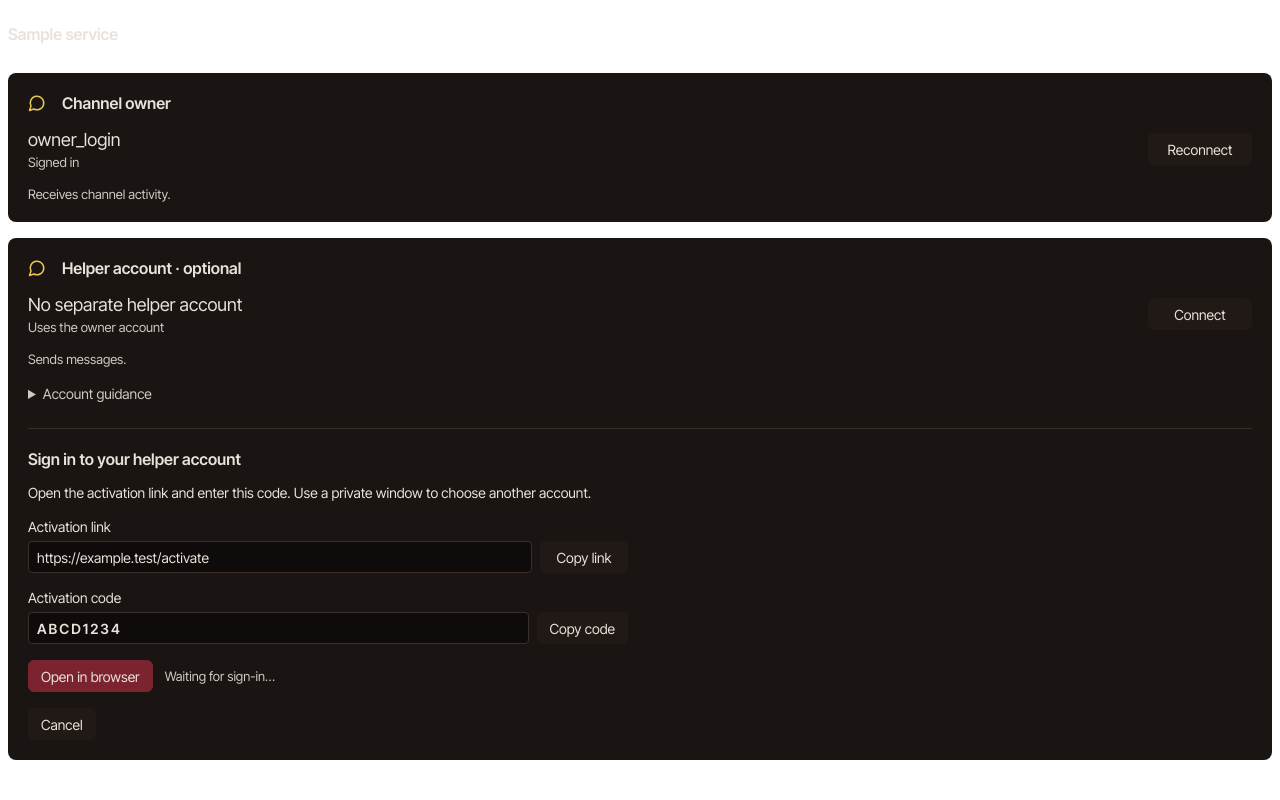
Test: AccountConnectionsView › keeps cancellation under backend control and hides internal errors
This screenshot has width=1280, height=800.
Step 1. Click the button "Open in browser" → point(90, 676), box 28,660 -> 153,692
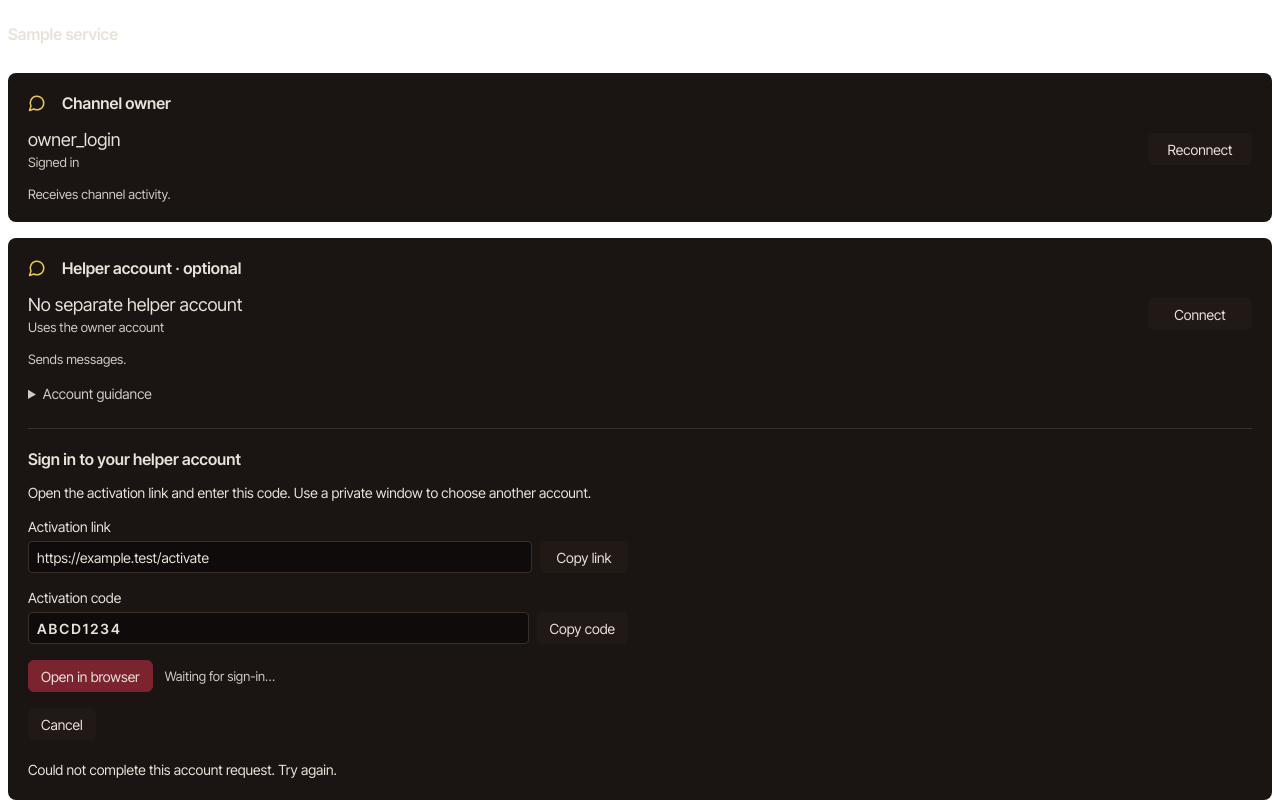
Expected: the message "Could not complete this account request. Try again." is shown, 28,761 -> 337,778
Step 2. Click the button "Cancel" → point(62, 724), box 28,708 -> 96,740
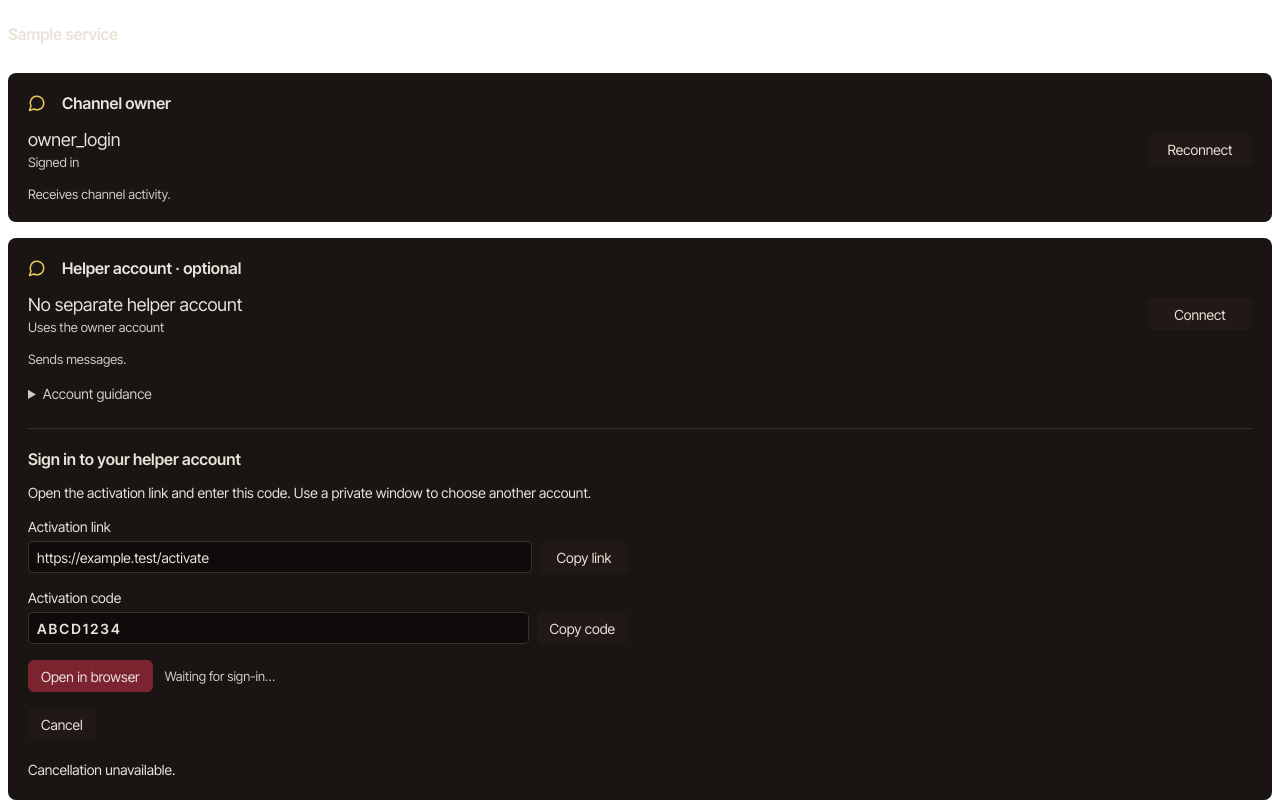
Expected: the message "Cancellation unavailable." is shown, 28,761 -> 175,778
Step 3. Click the button "Cancel" → point(62, 724), box 28,708 -> 96,740
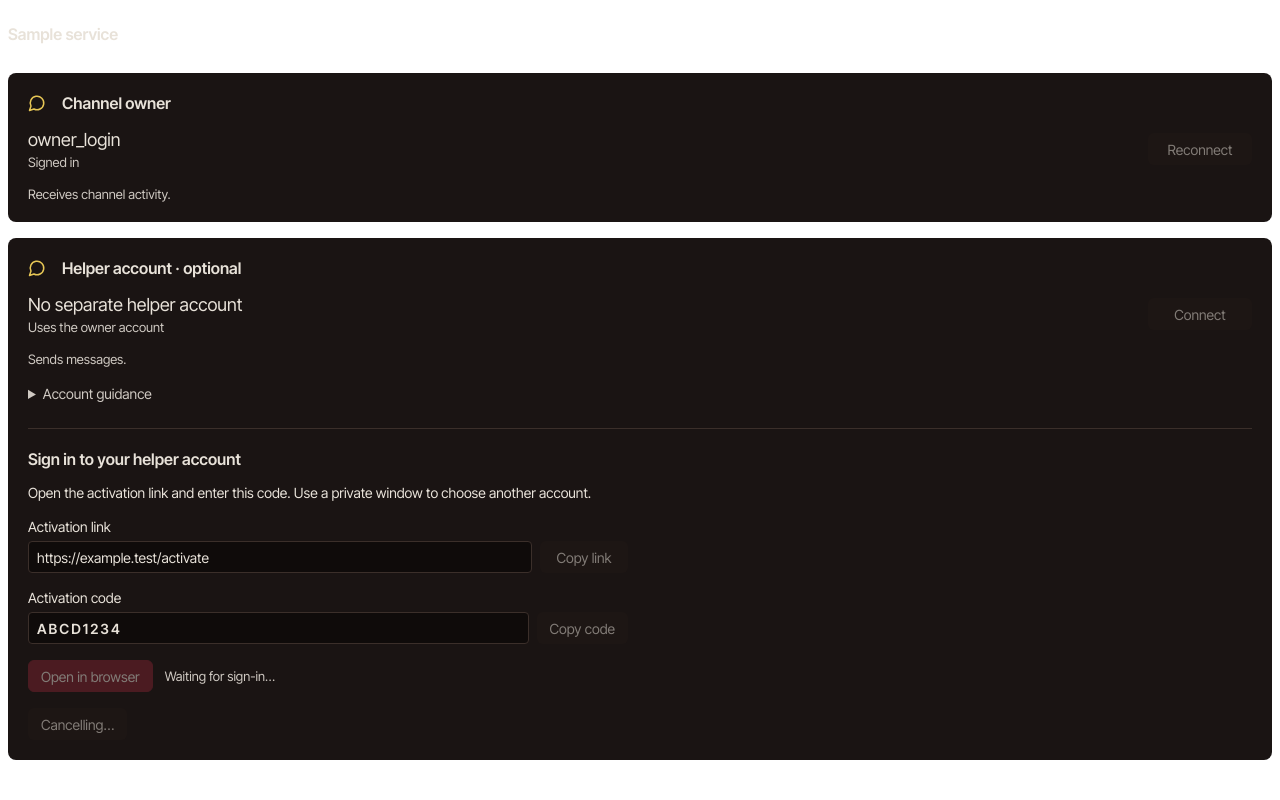
Expected: the field labelled "Activation code" is shown, 28,612 -> 528,644
Expected: the button "Cancelling…" is disabled, 28,708 -> 127,740
